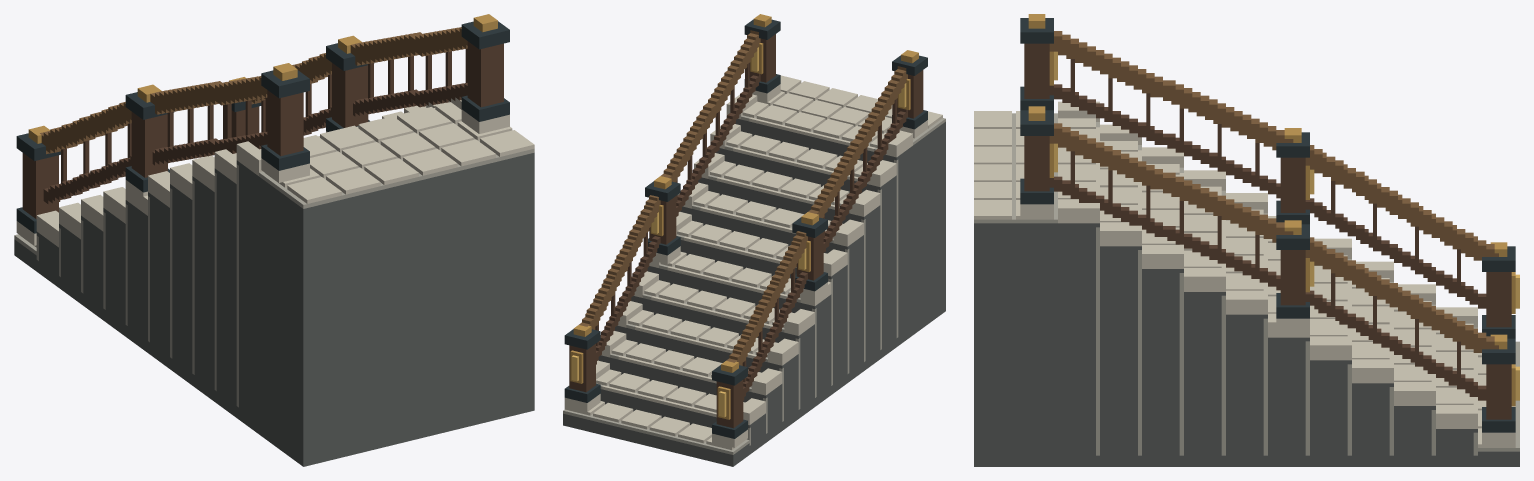
3 renders of one model, left to right at view 1: azimuth 30°, elevation 25°; view 2: azimuth 150°, elevation 25°; view 3: azimuth 270°, elevation 25°, orthographic. The views are drawn at different scales.
Visible parts, largest first — view 1: 旧天枢楼体十级楼梯体; view 2: 旧天枢楼体十级楼梯体; view 3: 旧天枢楼体十级楼梯体.
Part boxes in pixels (bbox=[...]): 旧天枢楼体十级楼梯体: bbox=[14, 14, 534, 466]; 旧天枢楼体十级楼梯体: bbox=[563, 14, 945, 466]; 旧天枢楼体十级楼梯体: bbox=[974, 14, 1519, 466].
Bounding box in the file's own units: 2.4 × 3.68 × 5.2.
Materials: 8 (8 with a texture image).
